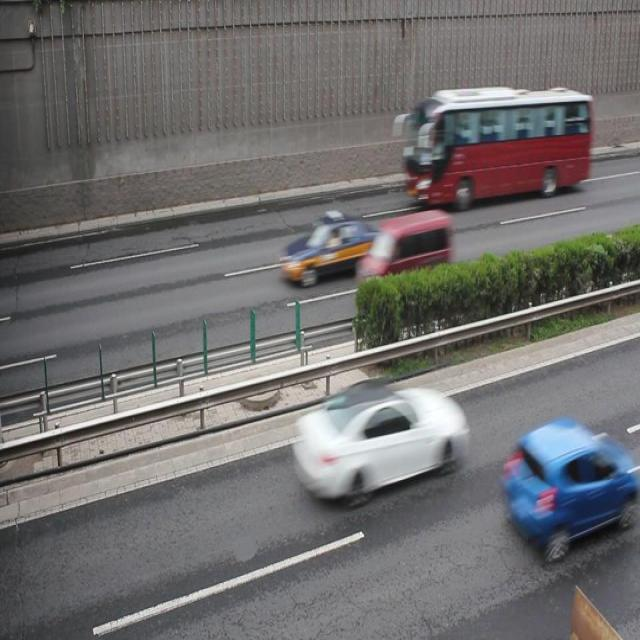car: (291, 383, 467, 501), (500, 421, 620, 559), (280, 210, 379, 286)
truck: (360, 211, 448, 303)
van: (402, 83, 591, 203)
